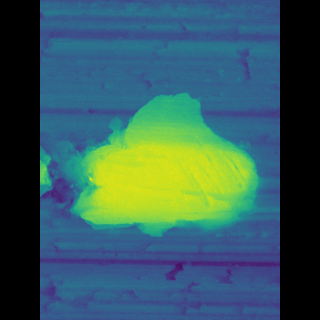Loch: (93, 91, 236, 237)
